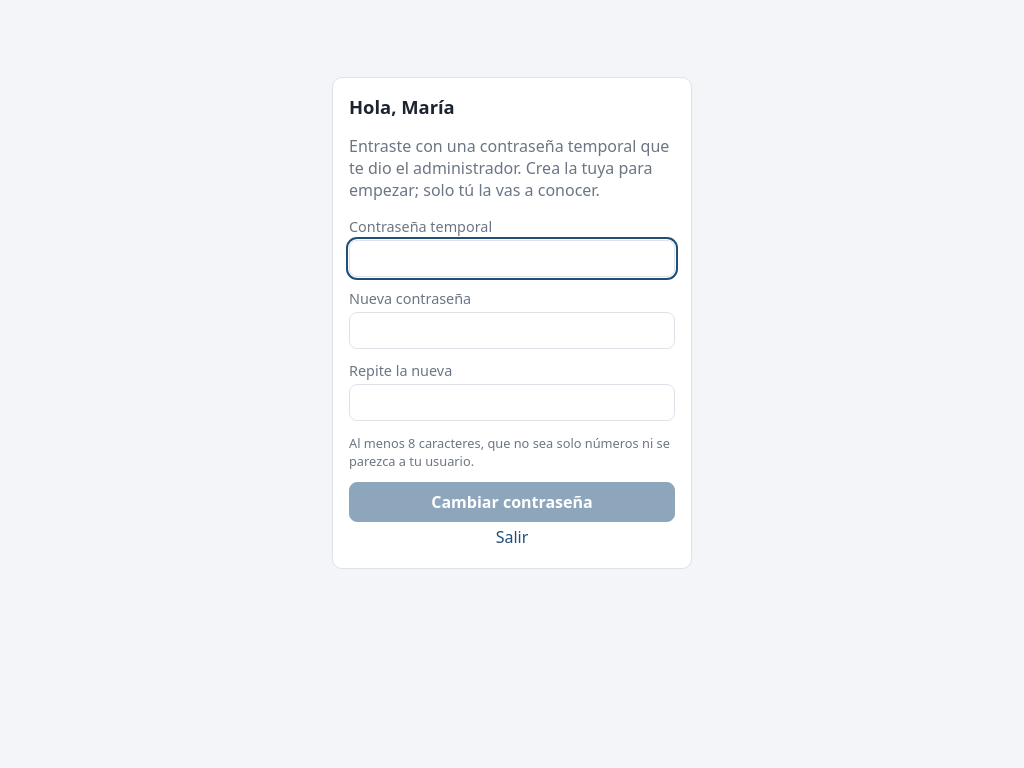
contraseña temporal (primer ingreso) › con clave temporal solo se ve la pantalla de cambio; al cambiarla aparece la app
Expected: the heading "Hola, María" is shown, [349,94,455,119]
Expected: the button "Caja" is not shown
Type "Temporal-Maria-2026" into the password field labelled "Contraseña temporal" at (512, 258), box [349,240,675,277]
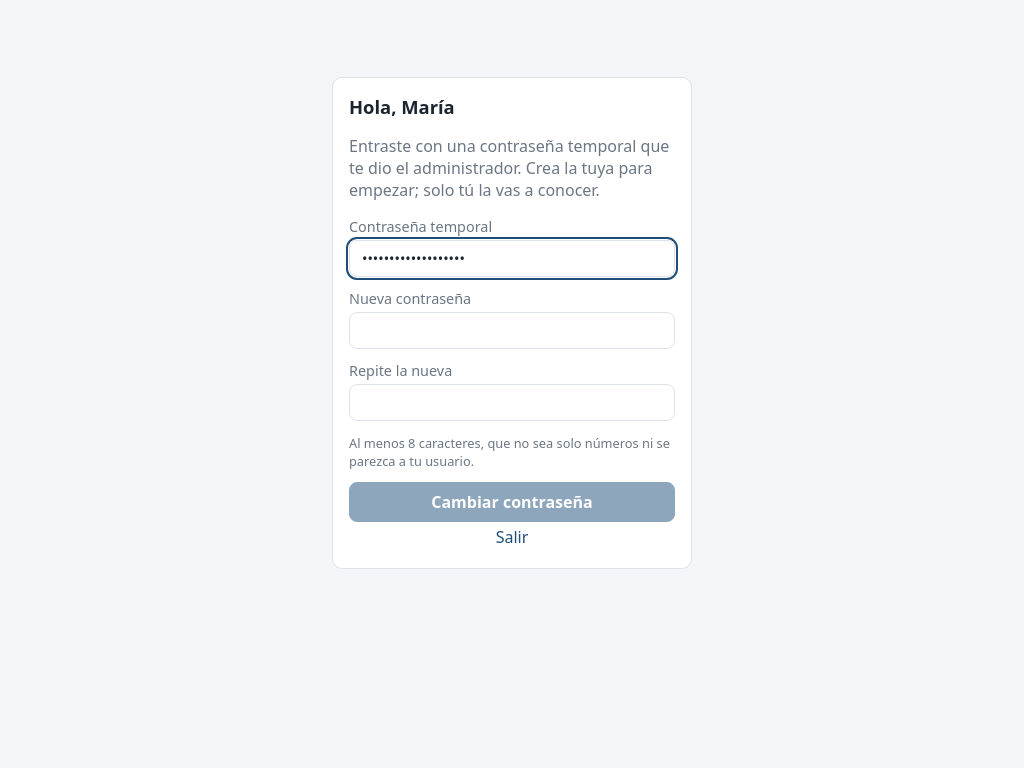
Type "Mi-Clave-Propia-2026" into the password field labelled "Nueva contraseña" at (512, 330), box [349,312,675,349]
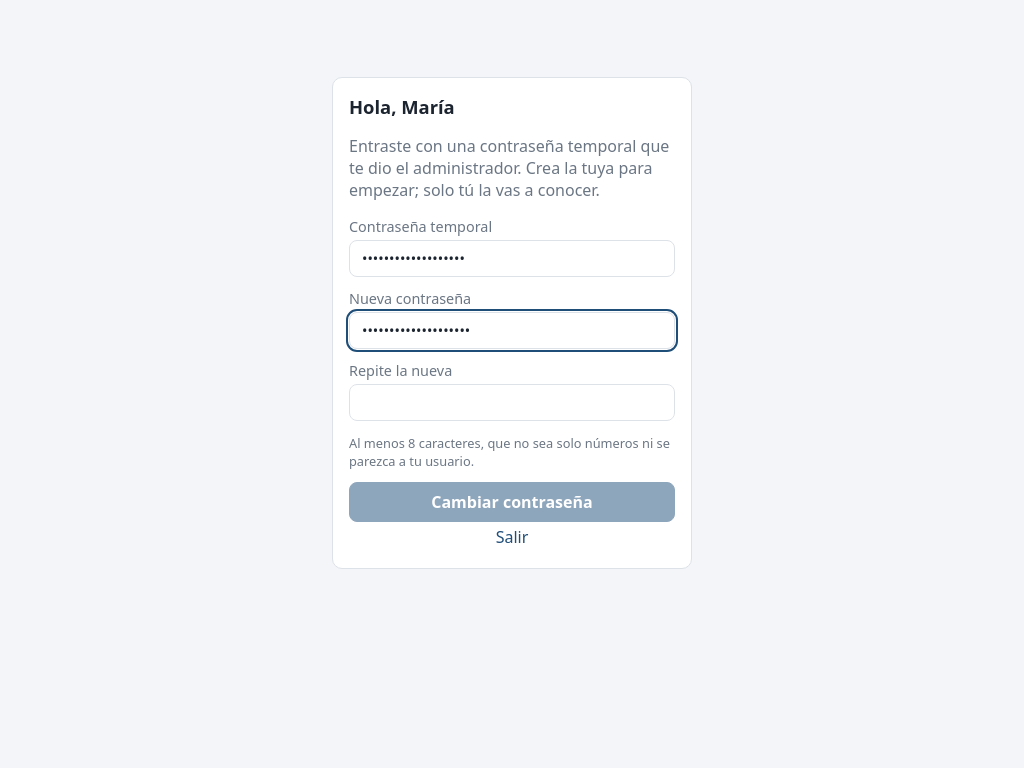
Type "Mi-Clave-Propia-2026" into the password field labelled "Repite la nueva" at (512, 402), box [349,384,675,421]
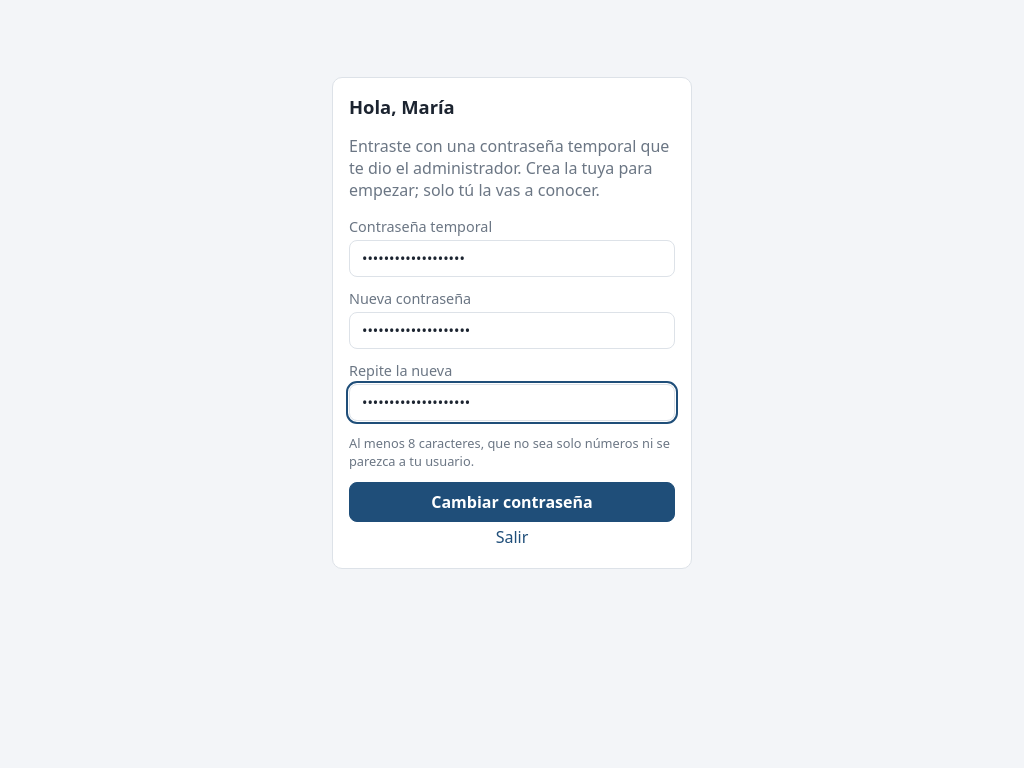
Click the button "Cambiar contraseña" at (512, 502), box [349,482,675,522]
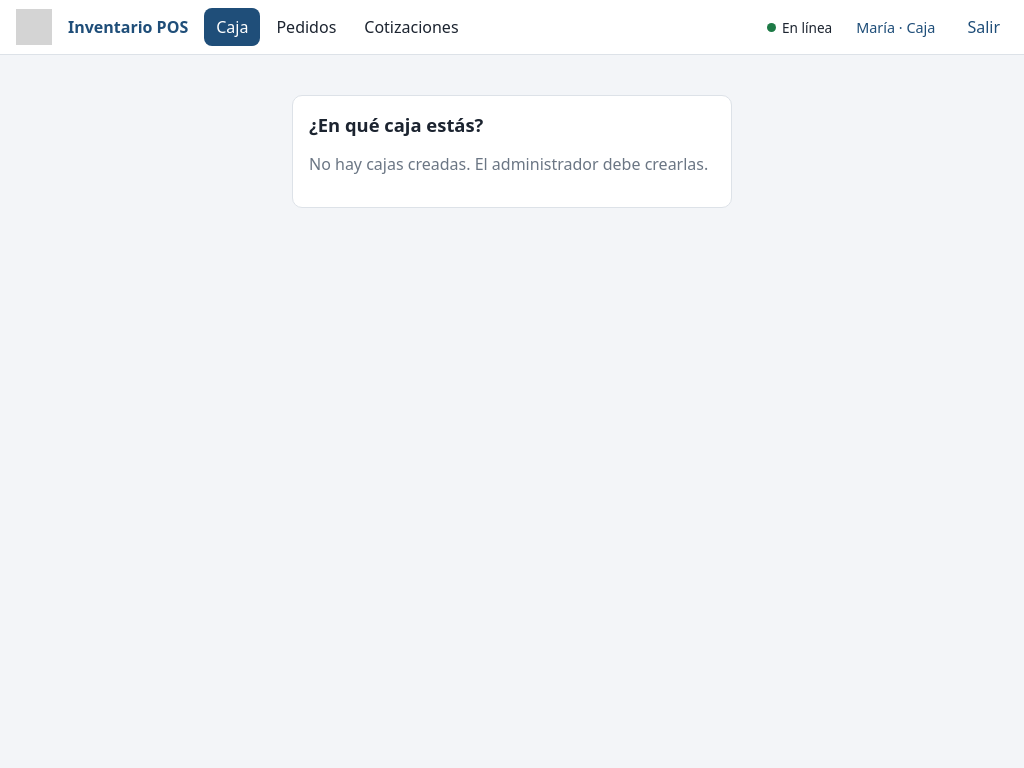
Now the button "Caja" is shown, box [204,8,260,46]
